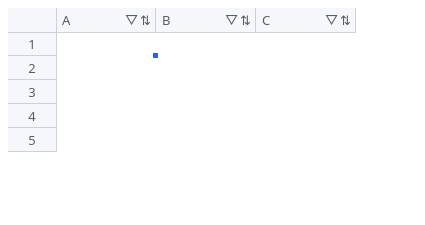
Test: LatticaGrid custom editors (P2-1) › commits on an outside mouse-down when the kind opts in
Press a in the table with test id "lattica-grid"
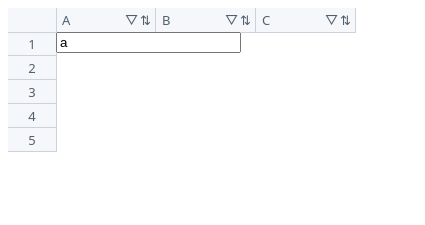
Expected: the element with test id "lattica-editor-custom" is shown, [56,32,156,56]
Press the mouse on the table with test id "lattica-grid": (208, 108) [8,8,408,208]
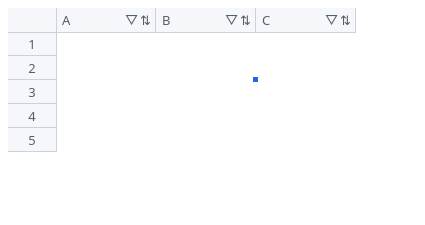
Expected: the element with test id "lattica-editor-custom" is gone
